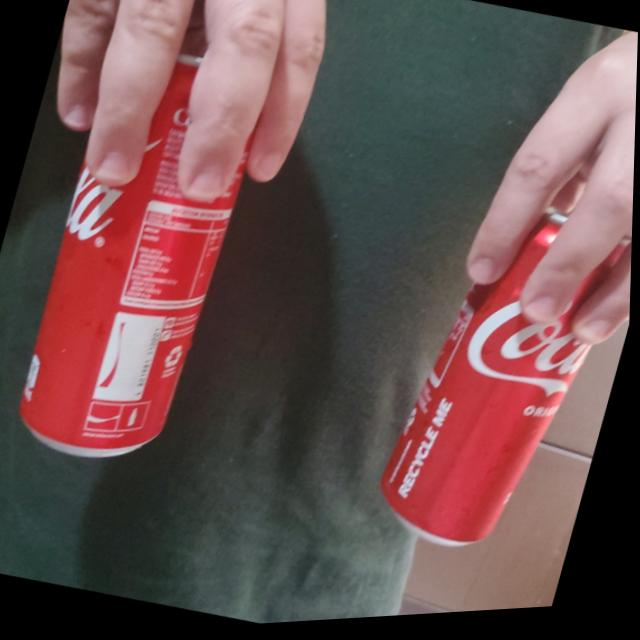coke: (9, 33, 278, 485), (366, 191, 635, 586)
